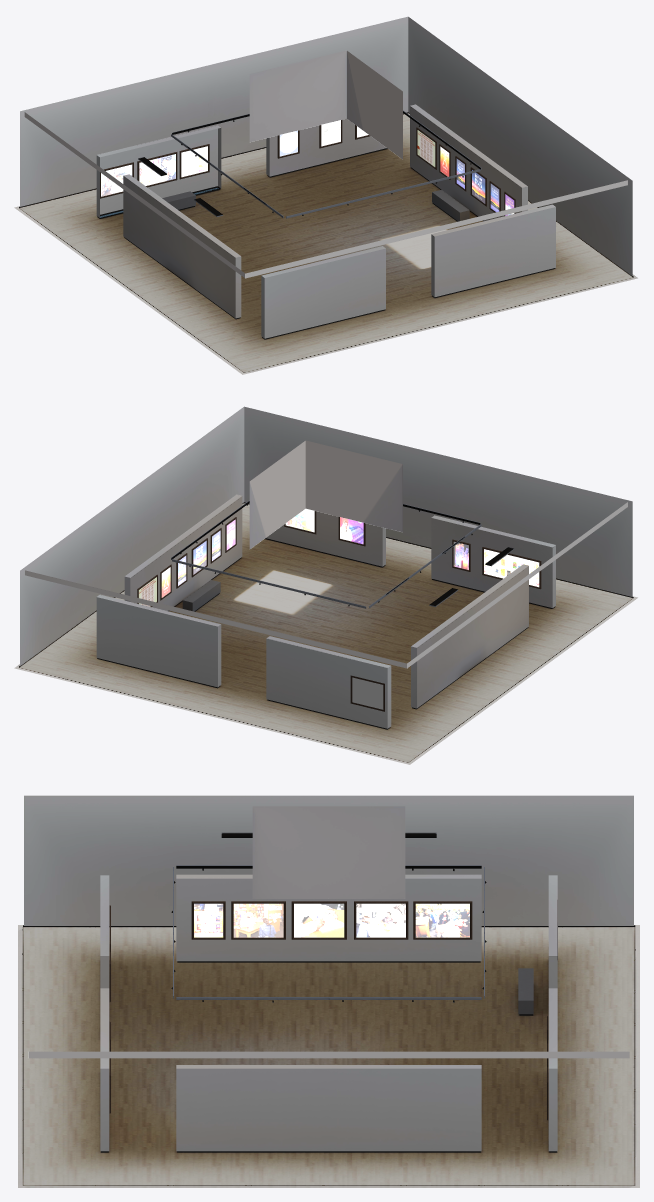
File: books-publications-gallery.gltf
The picture shows the model from 3 angles, top to bottom: view 1: azimuth 30°, elevation 25°; view 2: azimuth 150°, elevation 25°; view 3: azimuth 270°, elevation 25°; orthographic projection. The views are drawn at different scales.
Visible parts, largest first — view 1: floor, walls_exterior, walls, celling, props, Wall3_15_Scan-73, Wall4_16_YouTube_Display_65.25x58, Wall3_14_Scan-174, Wall1_01_56_Languages_Chart, Wall4_18_scan0004, Wall4_17_display_9_room_7_TV_loop; view 2: floor, walls_exterior, walls, celling, props, Wall2_08_TRANSLATION_IN_LANGUAGES_OF_iNDIA, Wall3_14_Scan-174, Wall1_06C_Front_Cover_image_cd_by_Mata_Rita_Ji_7-17_(2017_03, Wall1_06B_SuitFitForKingJPEGCover_(2017_03_05_01_58_01_UTC), Wall2_07_FICCI-1; view 3: floor, walls_exterior, walls, celling, props, Wall3_13_Scan-66, Wall3_11_Scan-67, Wall3_10_P5172048, Wall3_12_Scan-70, Wall3_09_Scan-72.
Boxes of the visible parts, x1=… form: floor: x1=14, y1=113, x2=637, y2=374; walls_exterior: x1=19, y1=16, x2=633, y2=277; walls: x1=96, y1=104, x2=555, y2=339; celling: x1=24, y1=50, x2=627, y2=278; props: x1=138, y1=110, x2=481, y2=221; Wall3_15_Scan-73: x1=137, y1=152, x2=177, y2=187; Wall4_16_YouTube_Display_65.25x58: x1=179, y1=144, x2=209, y2=179; Wall3_14_Scan-174: x1=100, y1=162, x2=133, y2=198; Wall1_01_56_Languages_Chart: x1=416, y1=127, x2=436, y2=169; Wall4_18_scan0004: x1=319, y1=120, x2=342, y2=148; Wall4_17_display_9_room_7_TV_loop: x1=277, y1=130, x2=299, y2=158; floor: x1=14, y1=503, x2=637, y2=764; walls_exterior: x1=19, y1=406, x2=633, y2=667; walls: x1=96, y1=494, x2=555, y2=729; celling: x1=24, y1=440, x2=627, y2=668; props: x1=171, y1=500, x2=514, y2=611; Wall2_08_TRANSLATION_IN_LANGUAGES_OF_iNDIA: x1=482, y1=547, x2=541, y2=589; Wall3_14_Scan-174: x1=350, y1=675, x2=384, y2=711; Wall1_06C_Front_Cover_image_cd_by_Mata_Rita_Ji_7-17_(2017_03: x1=338, y1=517, x2=365, y2=546; Wall1_06B_SuitFitForKingJPEGCover_(2017_03_05_01_58_01_UTC): x1=284, y1=509, x2=316, y2=534; Wall2_07_FICCI-1: x1=452, y1=539, x2=470, y2=571; floor: x1=18, y1=925, x2=639, y2=1187; walls_exterior: x1=22, y1=795, x2=635, y2=954; walls: x1=100, y1=874, x2=557, y2=1152; celling: x1=28, y1=806, x2=629, y2=1058; props: x1=171, y1=832, x2=533, y2=1015; Wall3_13_Scan-66: x1=413, y1=901, x2=472, y2=939; Wall3_11_Scan-67: x1=291, y1=901, x2=346, y2=939; Wall3_10_P5172048: x1=231, y1=901, x2=285, y2=939; Wall3_12_Scan-70: x1=354, y1=901, x2=408, y2=939; Wall3_09_Scan-72: x1=191, y1=901, x2=225, y2=939.
Bounding box in the file's own units: 16.65 × 6.44 × 16.75.
